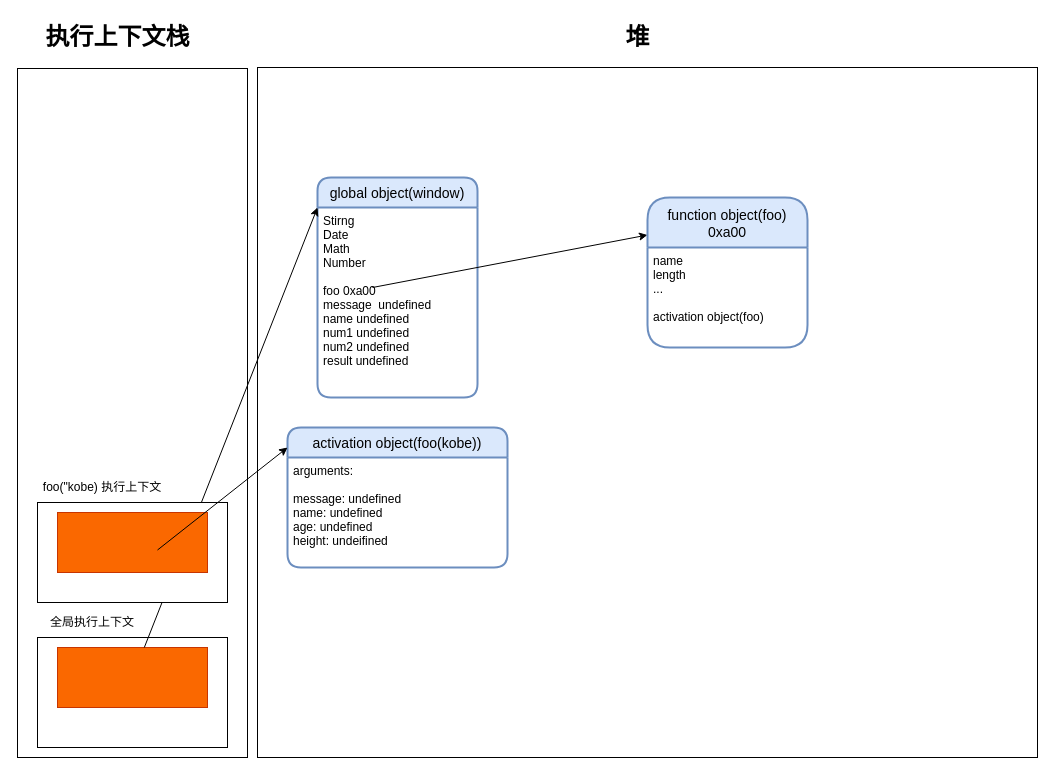
Some shapes in this 1055 by 775 pixel diagram are drawn without their labels. The centre of each missing label's shape, as x and y in pixels:
VO AO: the point at 132,542
VO GO scope chain this: the point at 132,677
